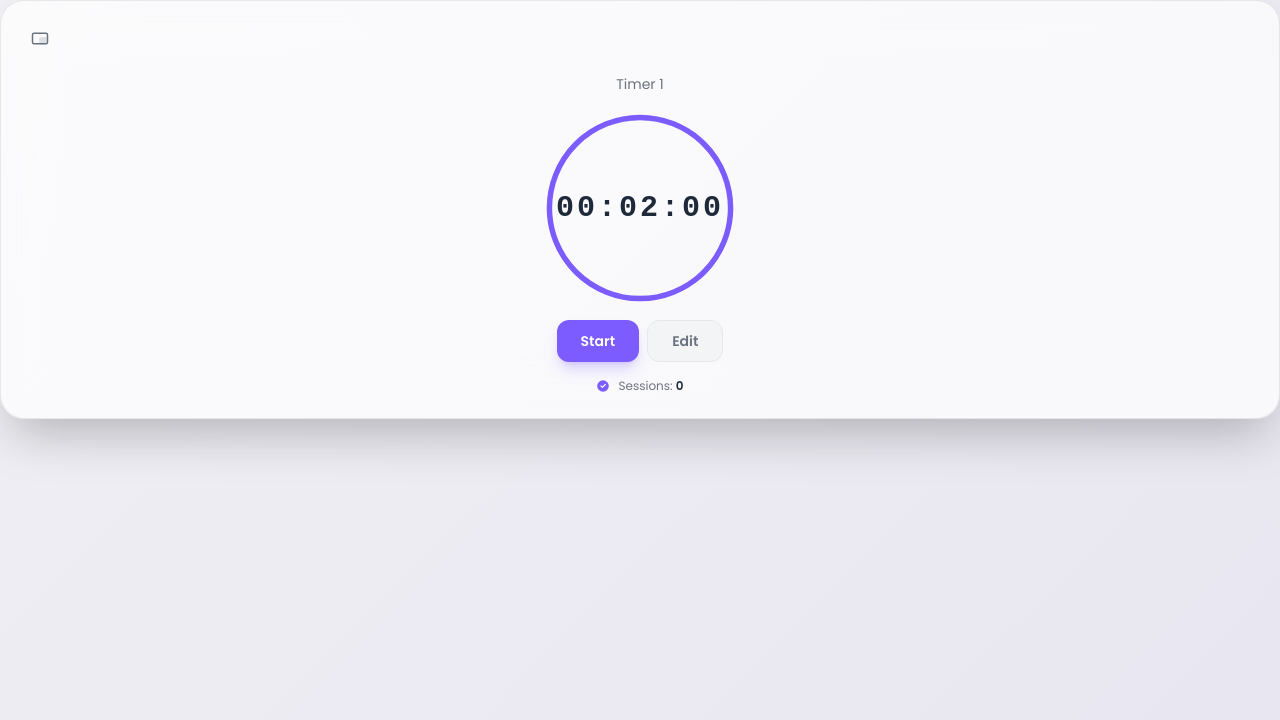
Test: TimerCard › inline time editing › should wrap minutes from 59 to 00 on ArrowUp
The width and height of the screenshot is (1280, 720).
Click the button named "Click to edit time" at (640, 208), box 556,190 -> 724,226
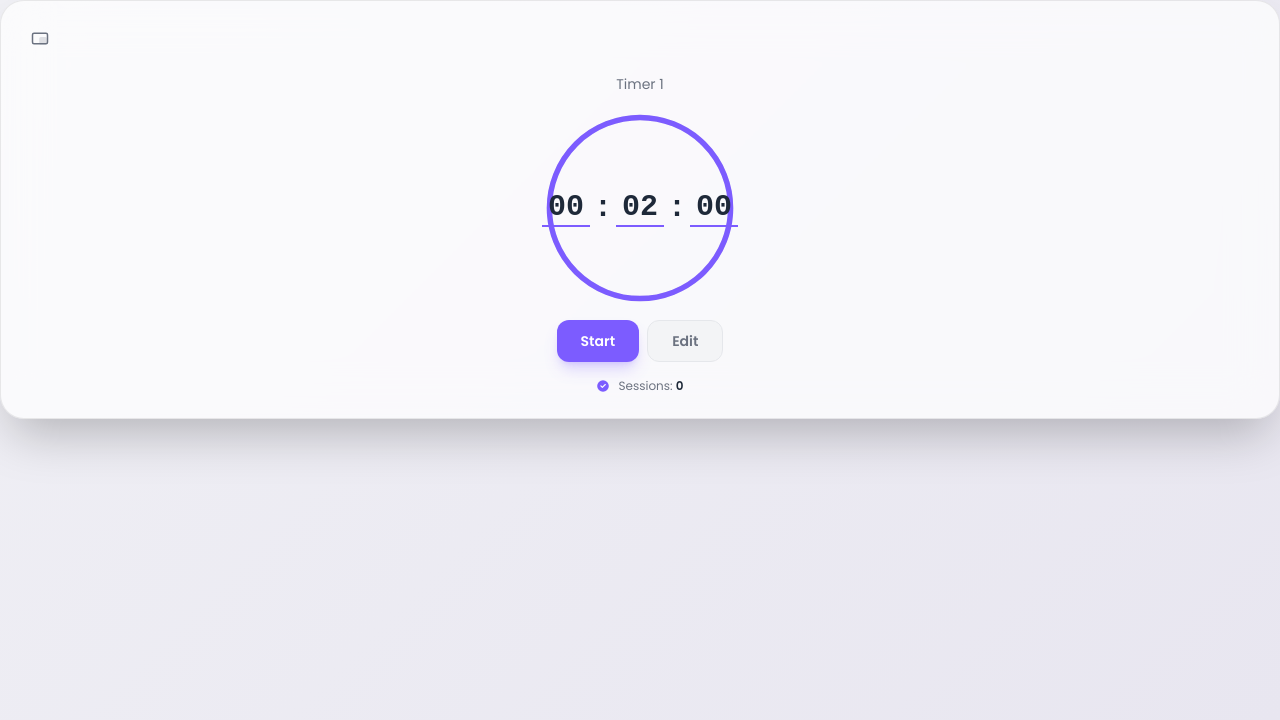
Replace the text in the field named "edit minutes" with "59" at (640, 208), box 616,189 -> 664,227
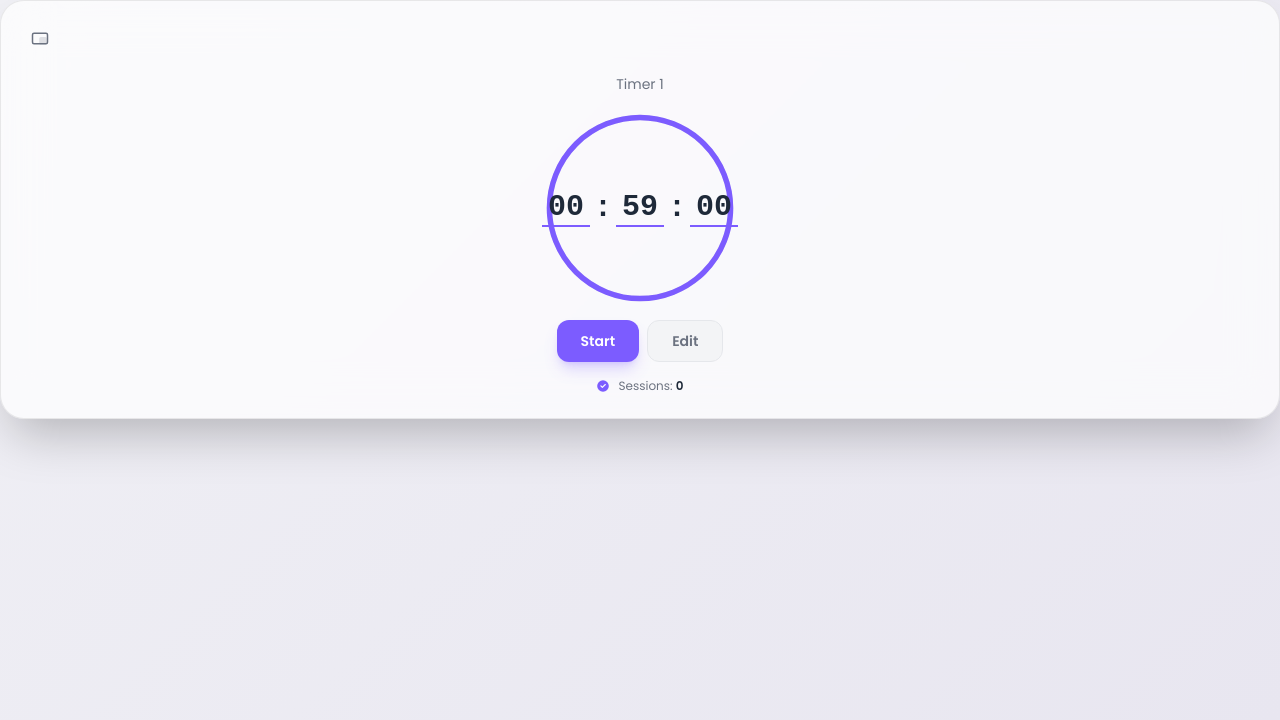
Press Arrowup
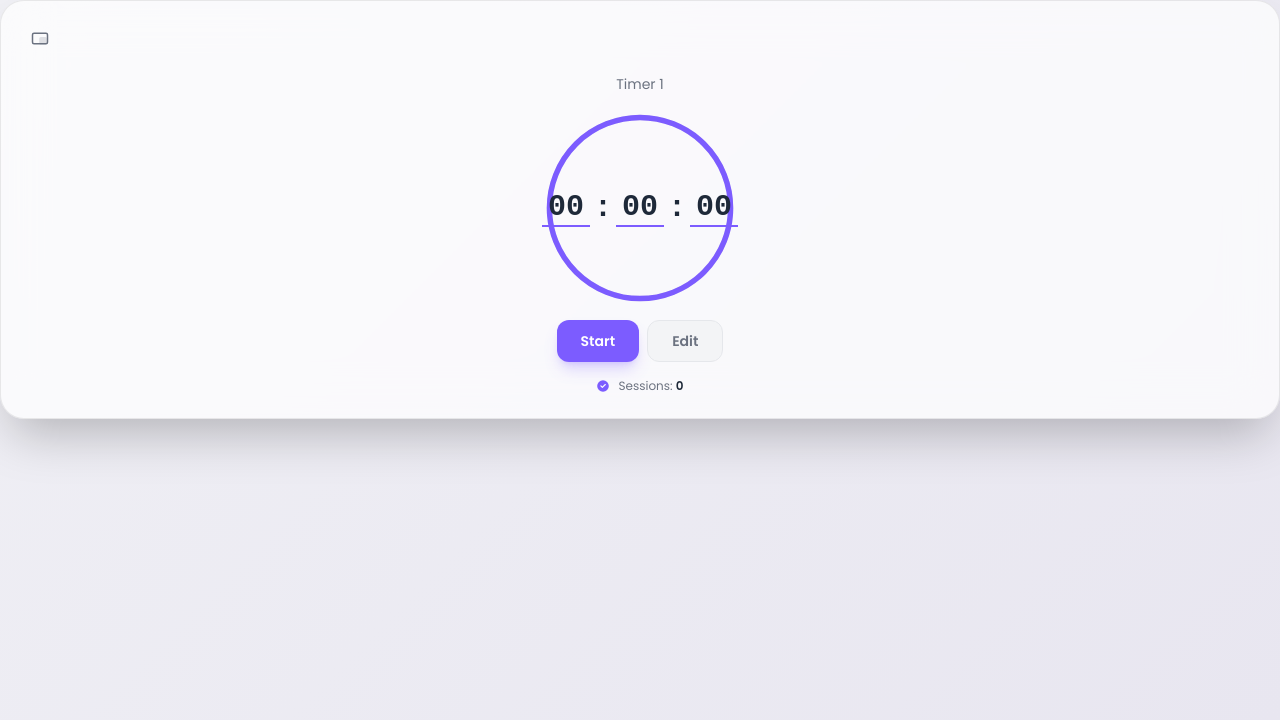
expect the field named "edit minutes" holds "00": met, box 616,189 -> 664,227
